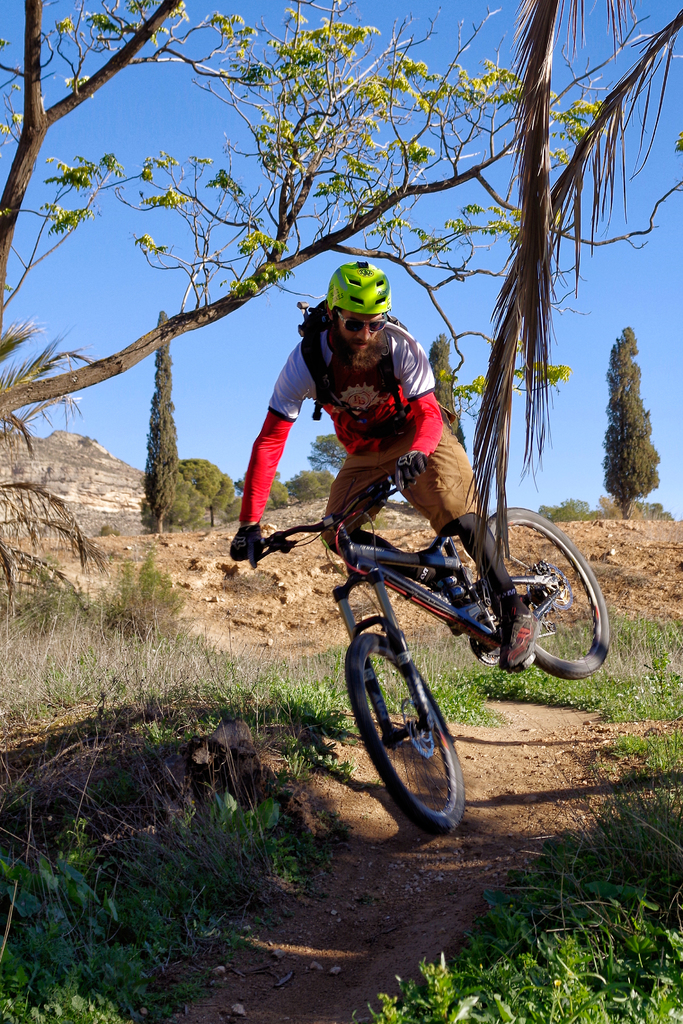Bike_toward: (241, 455, 627, 834)
